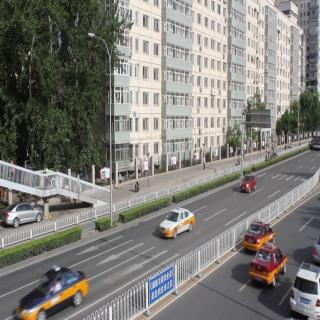Car: (14, 257, 87, 320), (289, 257, 320, 317), (152, 199, 196, 238), (256, 244, 281, 300), (3, 195, 45, 226), (233, 169, 260, 207), (243, 216, 273, 244)
